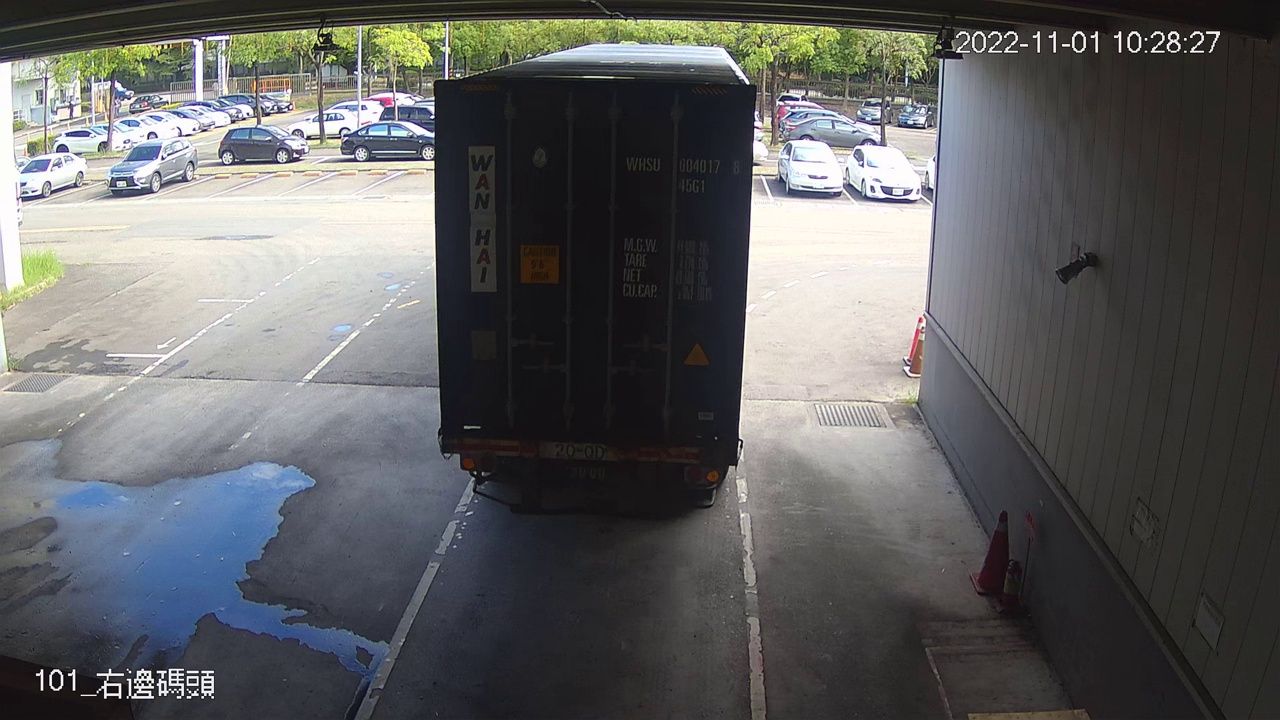container: (620, 146, 745, 199)
